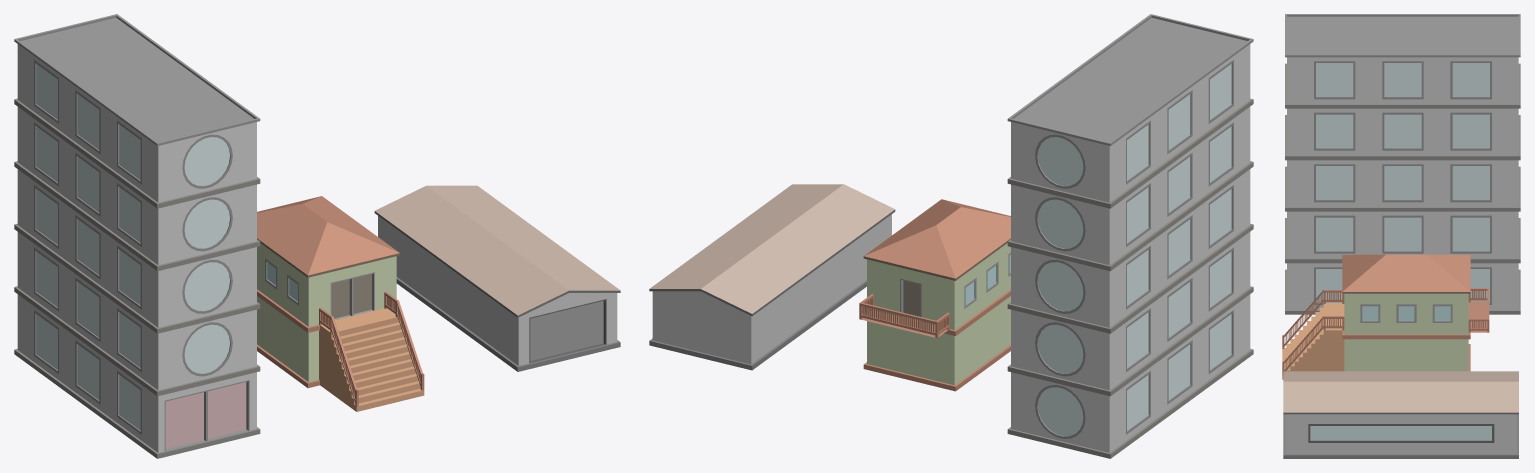
Rendered from Ebuildings.gltf.
The picture shows the model from 3 angles, left to right: view 1: azimuth 30°, elevation 25°; view 2: azimuth 150°, elevation 25°; view 3: azimuth 270°, elevation 25°; orthographic projection. The views are drawn at different scales.
Parts seen in each view (by area): view 1: building_006, building_005, building_004; view 2: building_006, building_005, building_004; view 3: building_006, building_005, building_004.
Part boxes in pixels (x1,y1,x2,y2): building_006: (14,14,260,458); building_005: (374,185,620,371); building_004: (257,196,424,411); building_006: (1007,14,1253,458); building_005: (649,184,895,370); building_004: (859,199,1010,391); building_006: (1285,14,1520,314); building_005: (1283,371,1518,458); building_004: (1282,254,1489,379).
Size of the model in its own units: 27.28 by 17.76 by 14.81.
